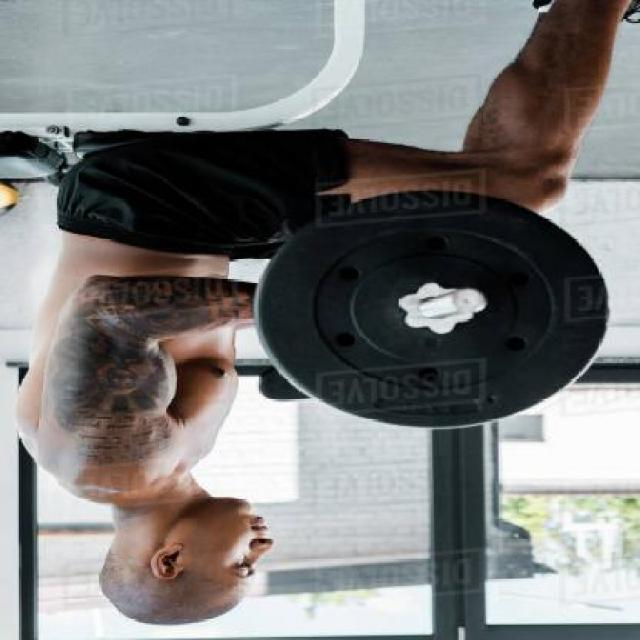Barbell: (444, 283, 490, 317)
